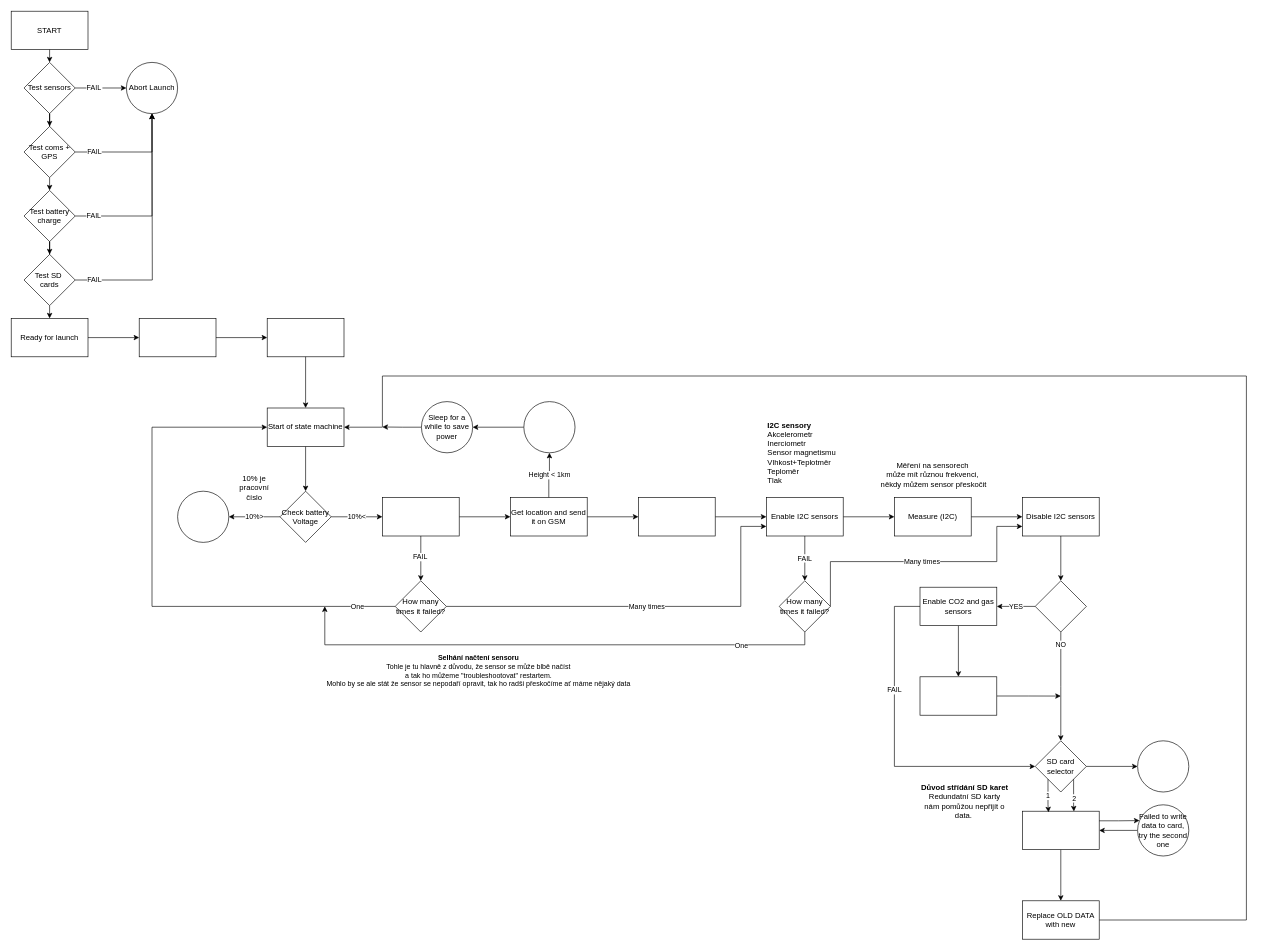
Image size: 1263x950. Some labels were removed from this diagram. Each missing label, with the centre of its shape:
Cannot read card: the point at 1163,766
Disable both modules: the point at 676,516
Disconnect from ground equipment: the point at 177,337
Do we want to measure CO2 and gas?: the point at 1060,606
Enable GPS and GSM: the point at 420,516
HIBERNATE: the point at 203,516
LAUNCH: the point at 305,337
Measure (gas): the point at 958,695
Probably landing, send only coords: the point at 549,427
Write data to Selected SD: the point at 1060,830
